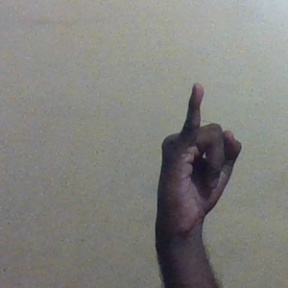I: (157, 84, 244, 227)
